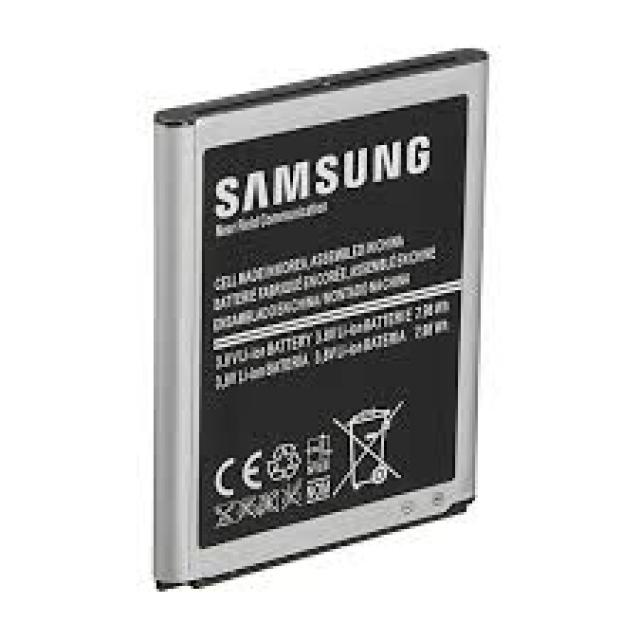non-organic waste: (156, 44, 477, 597)
